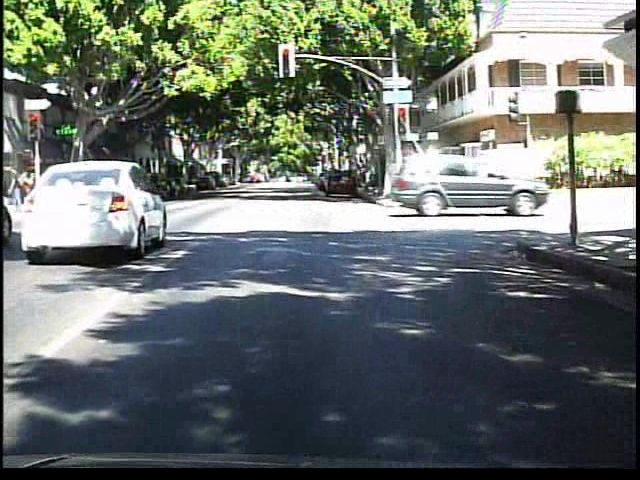person: (6, 158, 38, 209)
